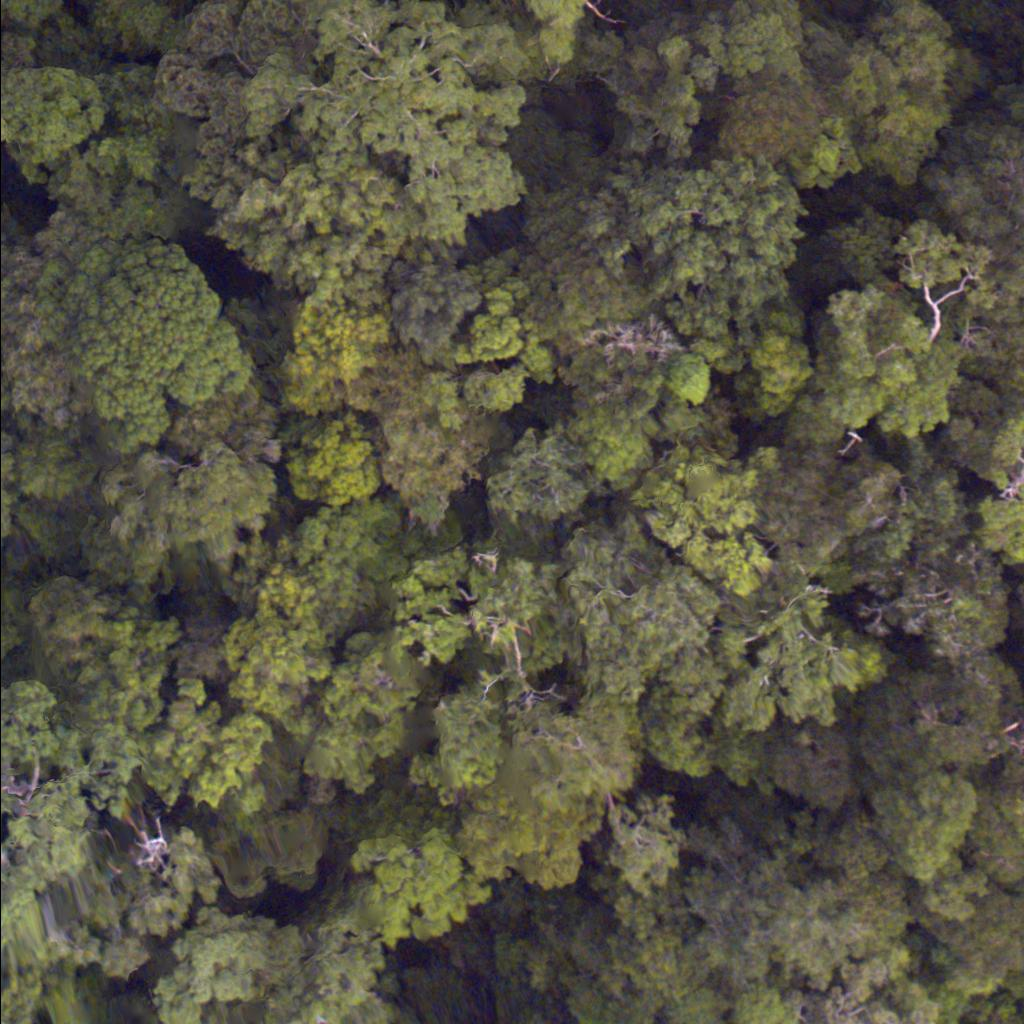crown: (42, 238, 279, 477), (583, 151, 798, 366), (939, 117, 1023, 371), (0, 219, 29, 419)
